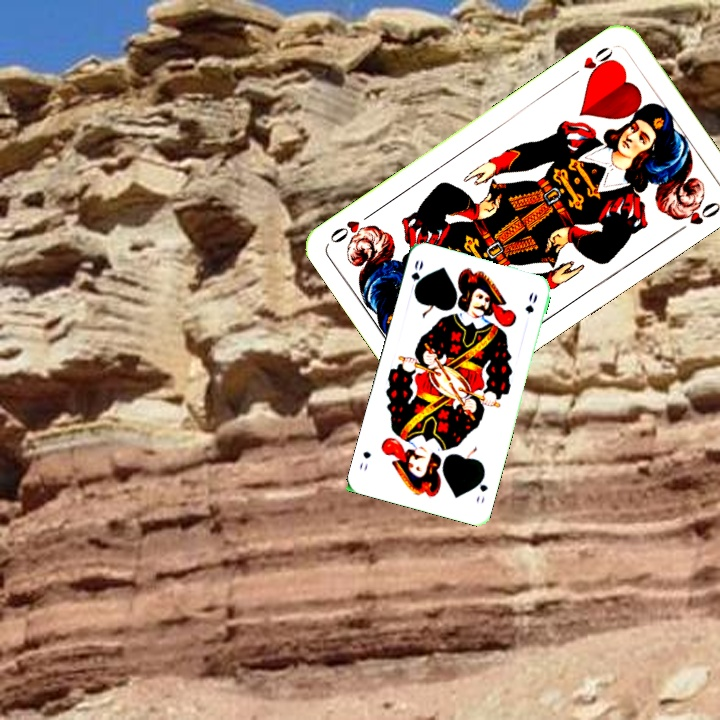GO: (406, 256, 426, 297), (472, 469, 491, 506)
HO: (565, 42, 618, 81)
